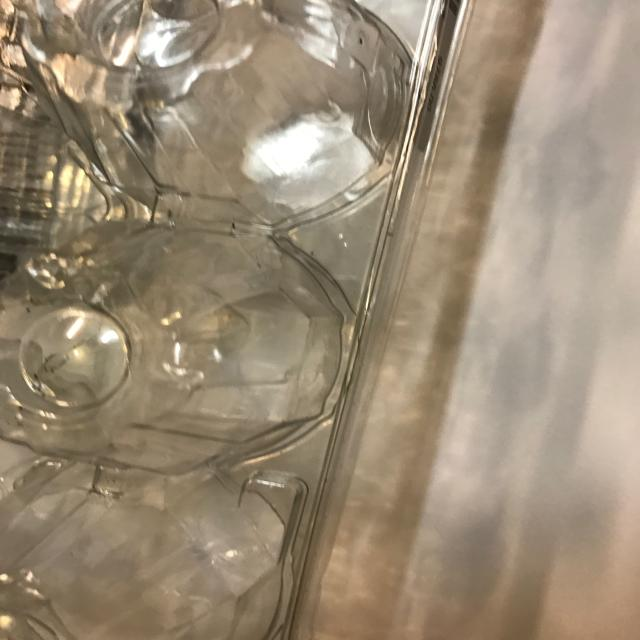plastic: (1, 1, 468, 638)
